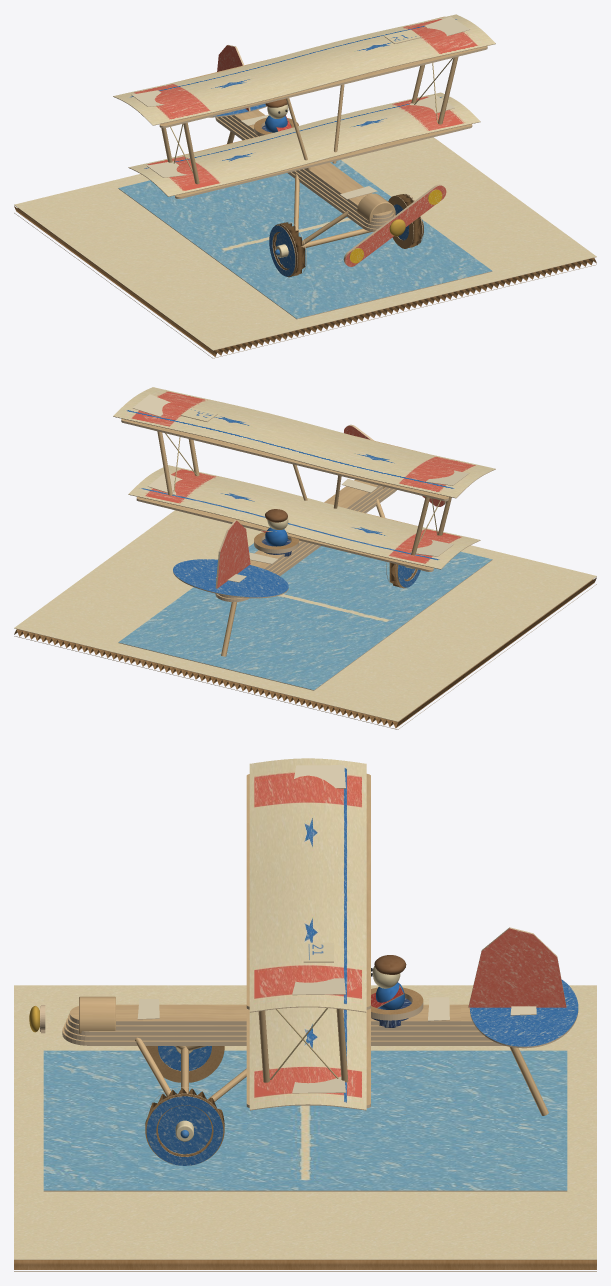
The model's file is 21_craft_stick_biplane.glb.
3 renders of one model, top to bottom at view 1: azimuth 30°, elevation 25°; view 2: azimuth 150°, elevation 25°; view 3: azimuth 270°, elevation 25°, orthographic. The views are drawn at different scales.
Visible parts, largest first — view 1: artwork_21_craft_stick_biplane, cream, wood, edge, flute, tape, coral, blue, kraft; view 2: artwork_21_craft_stick_biplane, cream, edge, wood, flute, blue, tape, coral; view 3: artwork_21_craft_stick_biplane, cream, wood, edge, blue, flute, coral, tape, kraft.
Boxes of the visible parts, box(x1,y1,x2,y2) form: artwork_21_craft_stick_biplane: box(113, 14, 495, 318); cream: box(14, 137, 596, 350); wood: box(159, 16, 487, 248); edge: box(14, 26, 596, 358); flute: box(14, 194, 596, 356); tape: box(132, 16, 469, 198); coral: box(217, 45, 446, 266); blue: box(213, 104, 409, 276); kraft: box(254, 117, 421, 277); artwork_21_craft_stick_biplane: box(113, 387, 495, 689); cream: box(14, 510, 596, 721); edge: box(14, 408, 596, 729); wood: box(121, 419, 451, 656); flute: box(14, 562, 596, 728); blue: box(173, 559, 420, 597); tape: box(133, 394, 468, 581); coral: box(217, 426, 444, 588); artwork_21_craft_stick_biplane: box(43, 758, 567, 1190); cream: box(14, 985, 596, 1259); wood: box(62, 774, 548, 1115); edge: box(14, 788, 596, 1271); blue: box(146, 979, 578, 1165); flute: box(14, 1051, 596, 1269); coral: box(468, 928, 566, 1007); tape: box(137, 765, 536, 1092); kraft: box(145, 987, 423, 1165).
Bounding box in the file's own units: 0.49 × 0.2124 × 0.44.
Materials: 20 (17 with a texture image).
